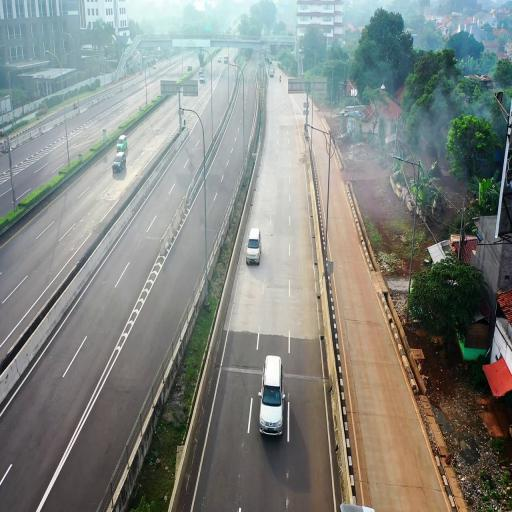vehicle: (259, 354, 284, 438), (112, 138, 128, 178), (246, 228, 262, 265), (112, 150, 127, 179)
